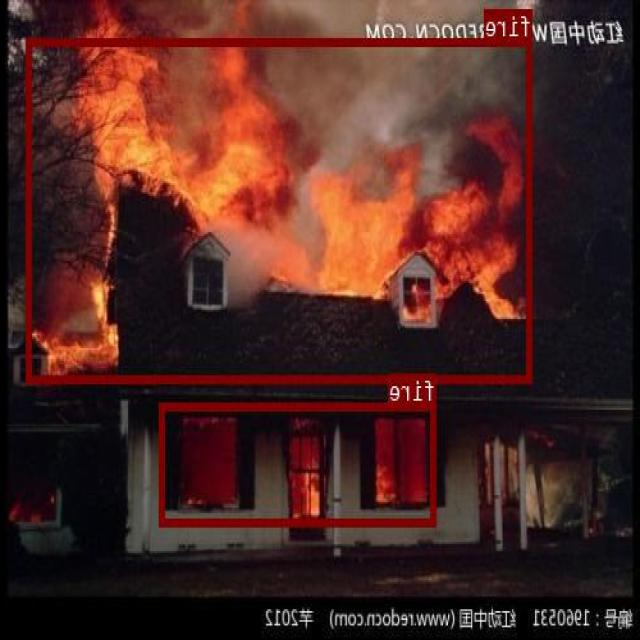fire: (28, 37, 534, 382), (160, 401, 437, 526)
